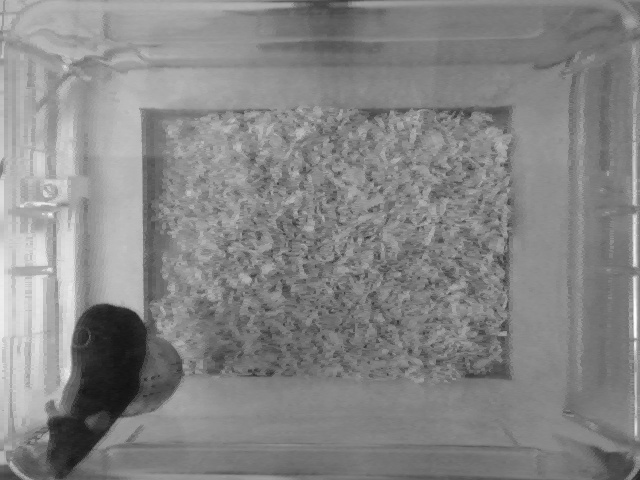mice: (43, 301, 146, 477)
